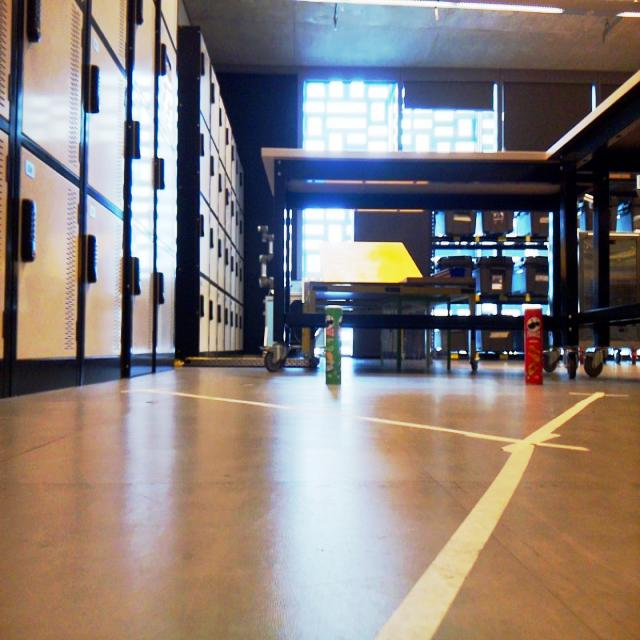greenpringles: (320, 296, 352, 394)
redpringles: (517, 300, 551, 396)
